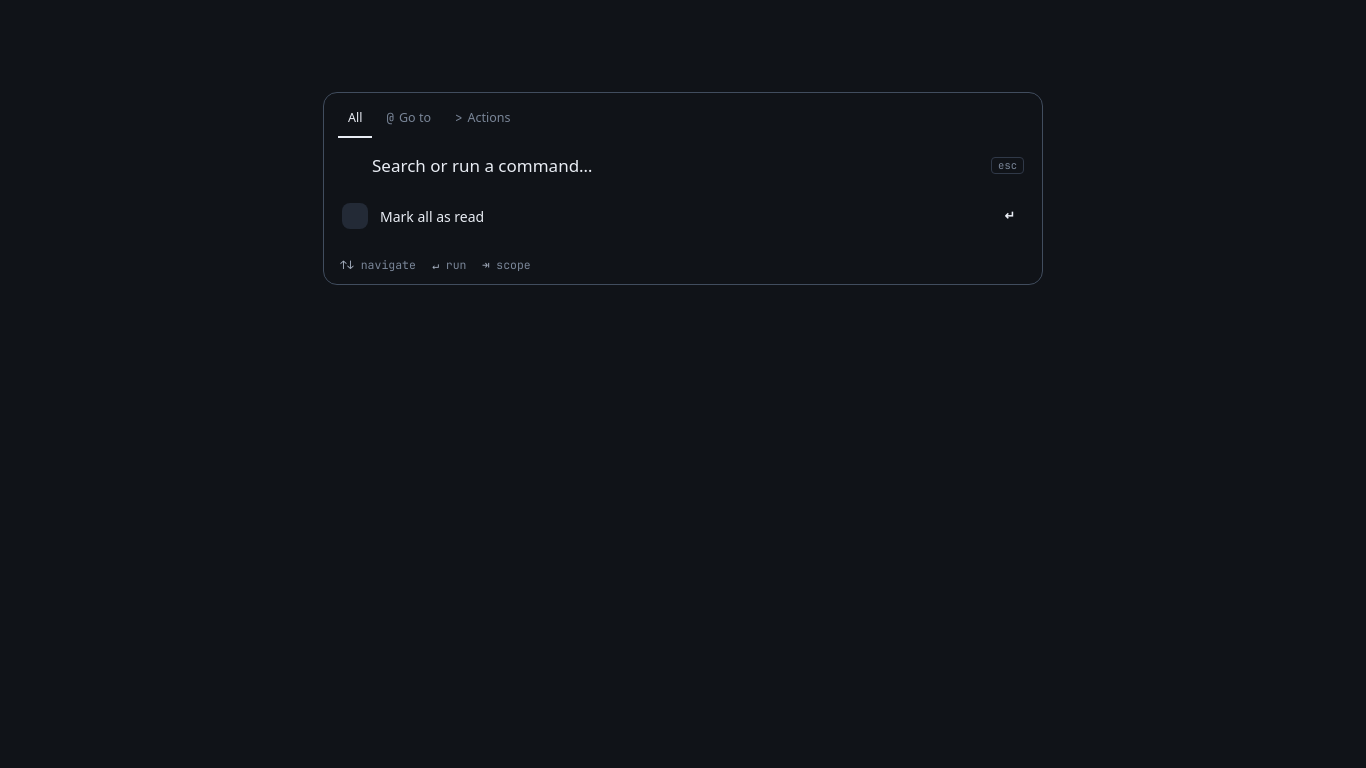
Test: CommandPalette › highlights a scattered fuzzy match per matched run, merging adjacent hits
Type "mkalrd" into the field with test id "command-palette-input" at (676, 166), box [372,153,979,178]
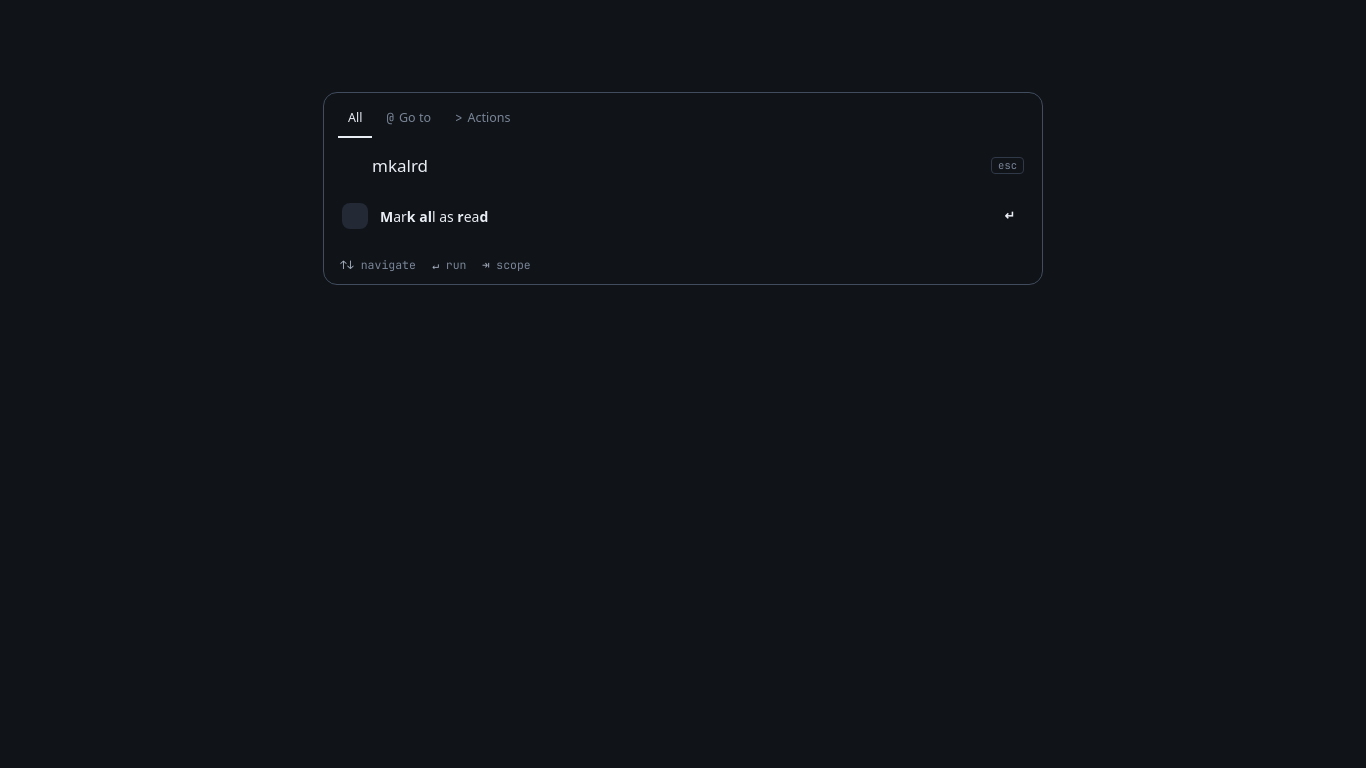
Expected: the element showing "Mark all as read" is shown, [380,207,488,226]
